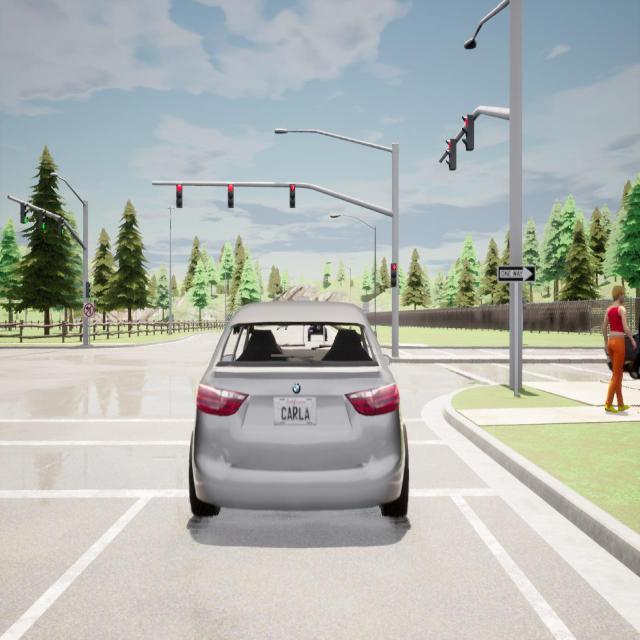Pedestrian: (600, 283, 637, 413)
Traffic_Signs: (497, 264, 535, 282), (83, 303, 94, 317), (362, 300, 370, 311)
Vehicle: (189, 301, 409, 516), (305, 324, 329, 344)
traffic_light: (462, 115, 474, 151), (445, 139, 456, 171), (38, 210, 46, 231), (228, 184, 234, 208), (176, 184, 182, 208), (21, 203, 28, 223), (391, 263, 396, 287), (290, 184, 295, 208), (58, 218, 64, 235), (86, 282, 91, 298)
